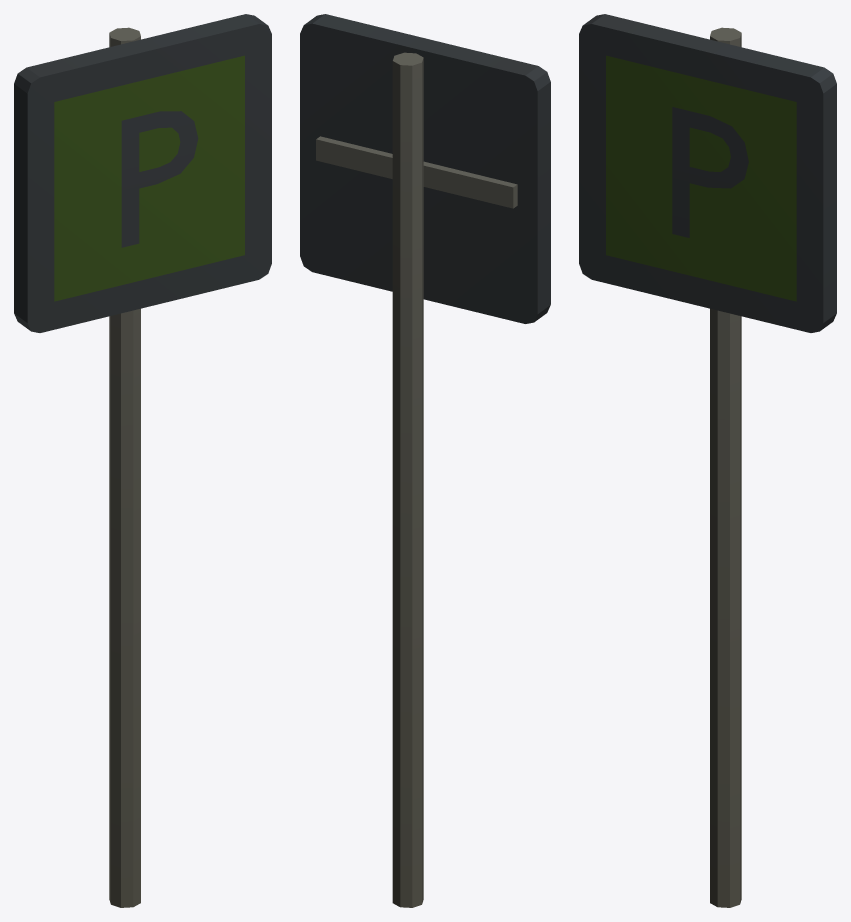
Rendered from RoadSign_04.fbx.
3 renders of one model, left to right at view 1: azimuth 30°, elevation 25°; view 2: azimuth 150°, elevation 25°; view 3: azimuth 330°, elevation 25°, orthographic. The views are drawn at different scales.
Parts seen in each view (by area): view 1: RoadSign_04; view 2: RoadSign_04; view 3: RoadSign_04.
Boxes of the visible parts, x1,y1,x2,y2 form: RoadSign_04: (14, 14, 271, 907); RoadSign_04: (300, 14, 550, 907); RoadSign_04: (579, 14, 836, 907).
Bounding box in the file's own units: 0.5202 × 1.77 × 0.1225.
